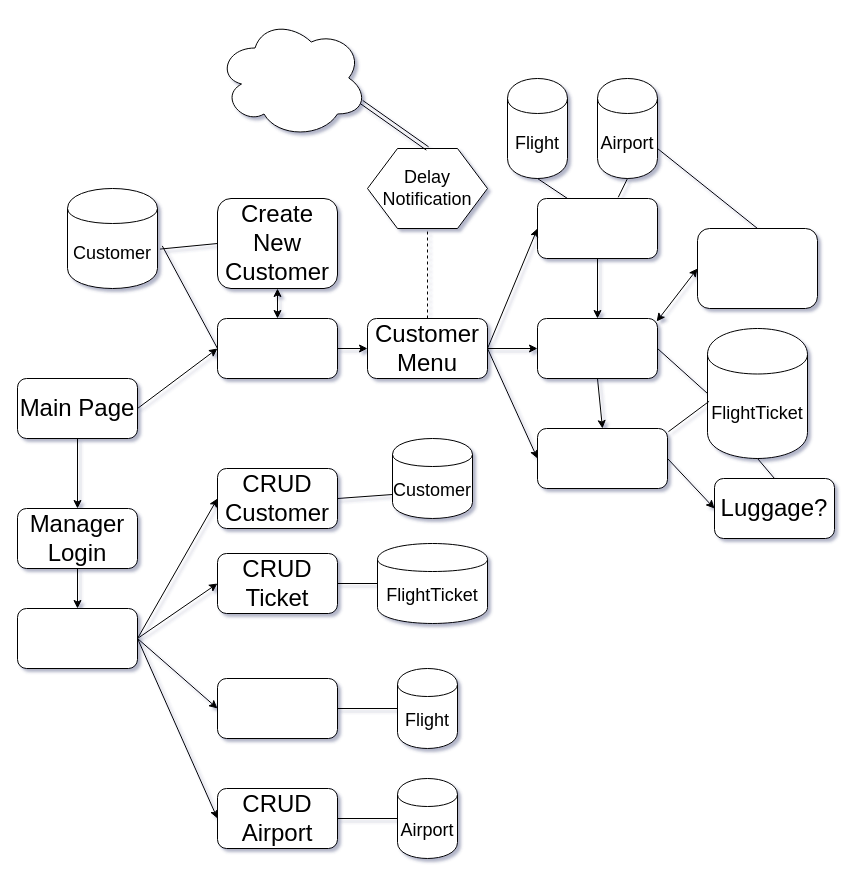
The diagram is 858 pixels wide and 882 high, and some of its shapes have lost their labels. The shapes that lost their labels are listed below. From the top down, each one's centre as x and y in pixels, then its label:
At (x=292, y=77): "3rd party API".
At (x=597, y=228): "Check Flight Status".
At (x=757, y=268): "Check if Seat is available".
At (x=277, y=348): "Customer Login".
At (x=597, y=348): "Buy Ticket".
At (x=602, y=458): "Check In (Validation)".
At (x=77, y=638): "Manager Menu".
At (x=277, y=708): "CRUD Flight".
